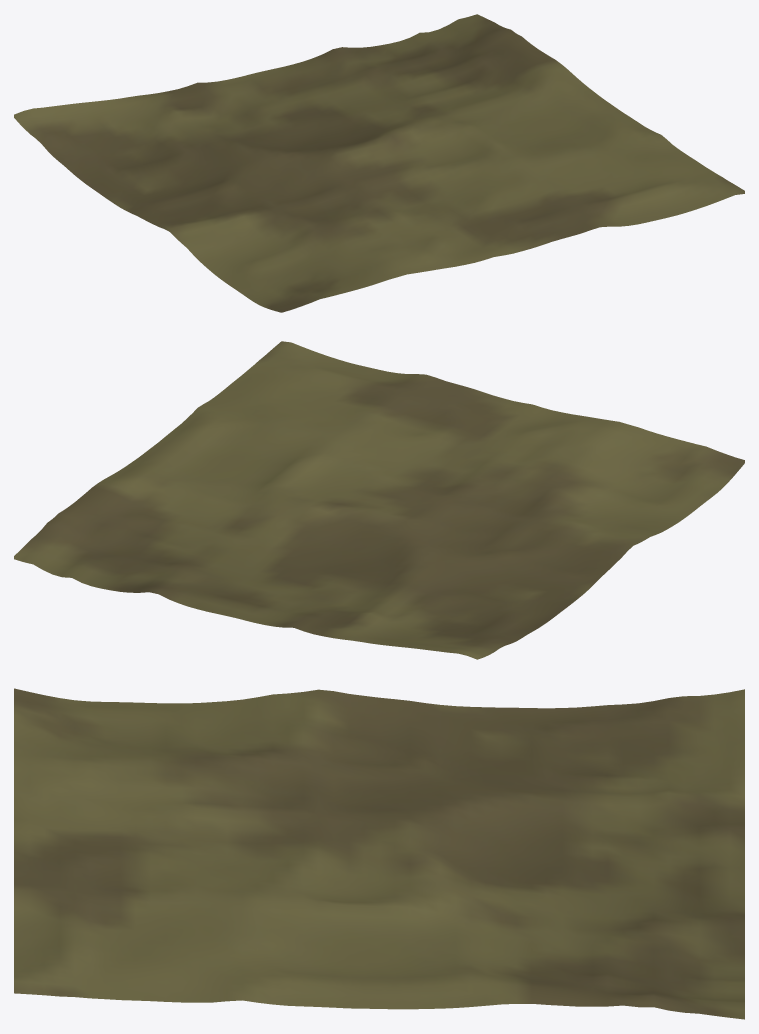
Rendered from land_m_12_09.glb.
The picture shows the model from 3 angles, top to bottom: view 1: azimuth 30°, elevation 25°; view 2: azimuth 150°, elevation 25°; view 3: azimuth 270°, elevation 25°; orthographic projection. The views are drawn at different scales.
Parts seen in each view (by area): view 1: land_m_12_09; view 2: land_m_12_09; view 3: land_m_12_09.
Part boxes in pixels (x1,y1,x2,y2): land_m_12_09: [14, 14, 744, 312]; land_m_12_09: [14, 341, 744, 659]; land_m_12_09: [14, 688, 744, 1019].
Size of the model in its own units: 960 by 64.52 by 960.
